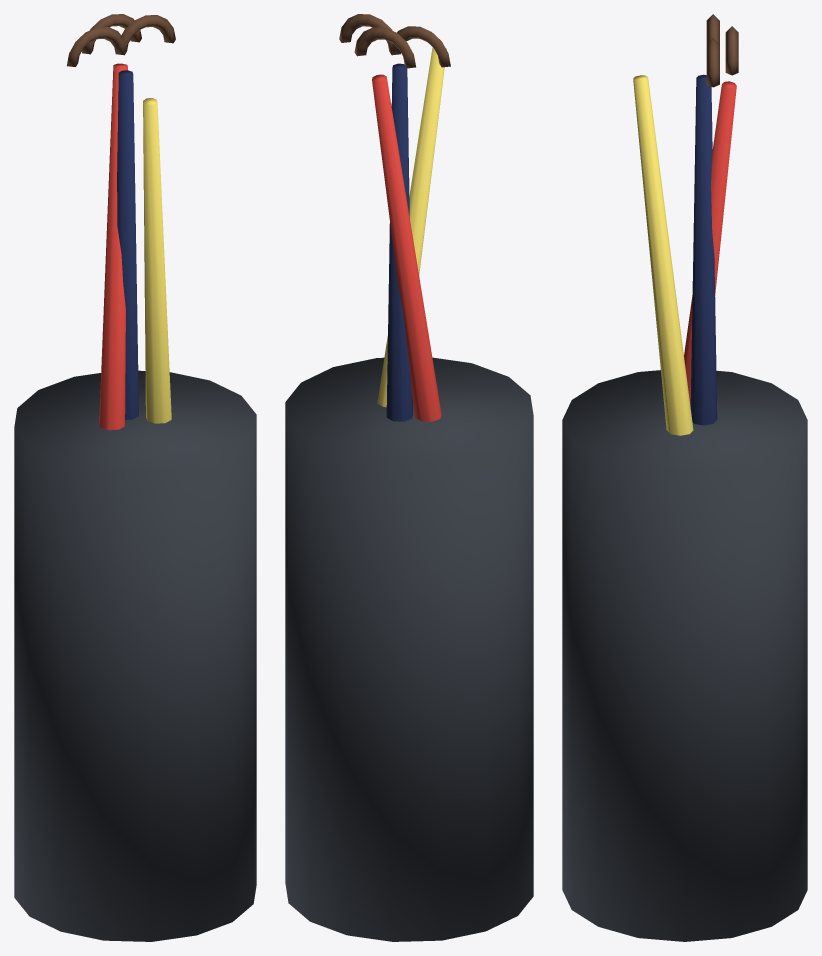
File: UmbrellaStand.fbx
3 views of the same model, side by side, from view 1: azimuth 30°, elevation 25°; view 2: azimuth 150°, elevation 25°; view 3: azimuth 270°, elevation 25° (orthographic). The views are drawn at different scales.
Parts seen in each view (by area): view 1: UmbrellaStandBody; view 2: UmbrellaStandBody; view 3: UmbrellaStandBody.
Part boxes in pixels (x1=…): UmbrellaStandBody: x1=14, y1=14, x2=256, y2=941; UmbrellaStandBody: x1=285, y1=14, x2=533, y2=941; UmbrellaStandBody: x1=562, y1=14, x2=807, y2=941.
Bounding box in the file's own units: 0.26 × 1.01 × 0.26.
